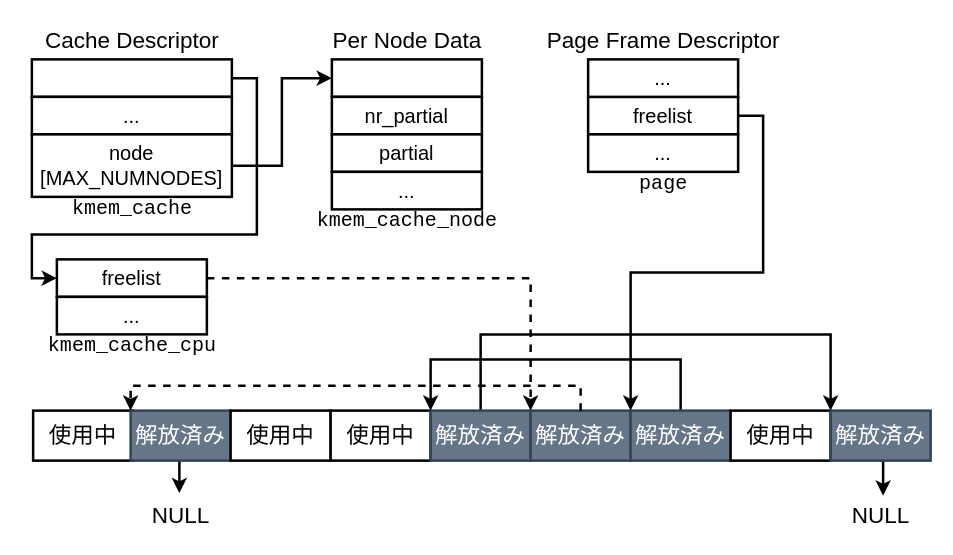
Some shapes in this 953 by 555 pixel diagram are drawn without their labels. Here are the shapes that lost their labels. From the top down, the centre of each, then its label:
(131,78): cpu_slub
(406,78): list_lock
